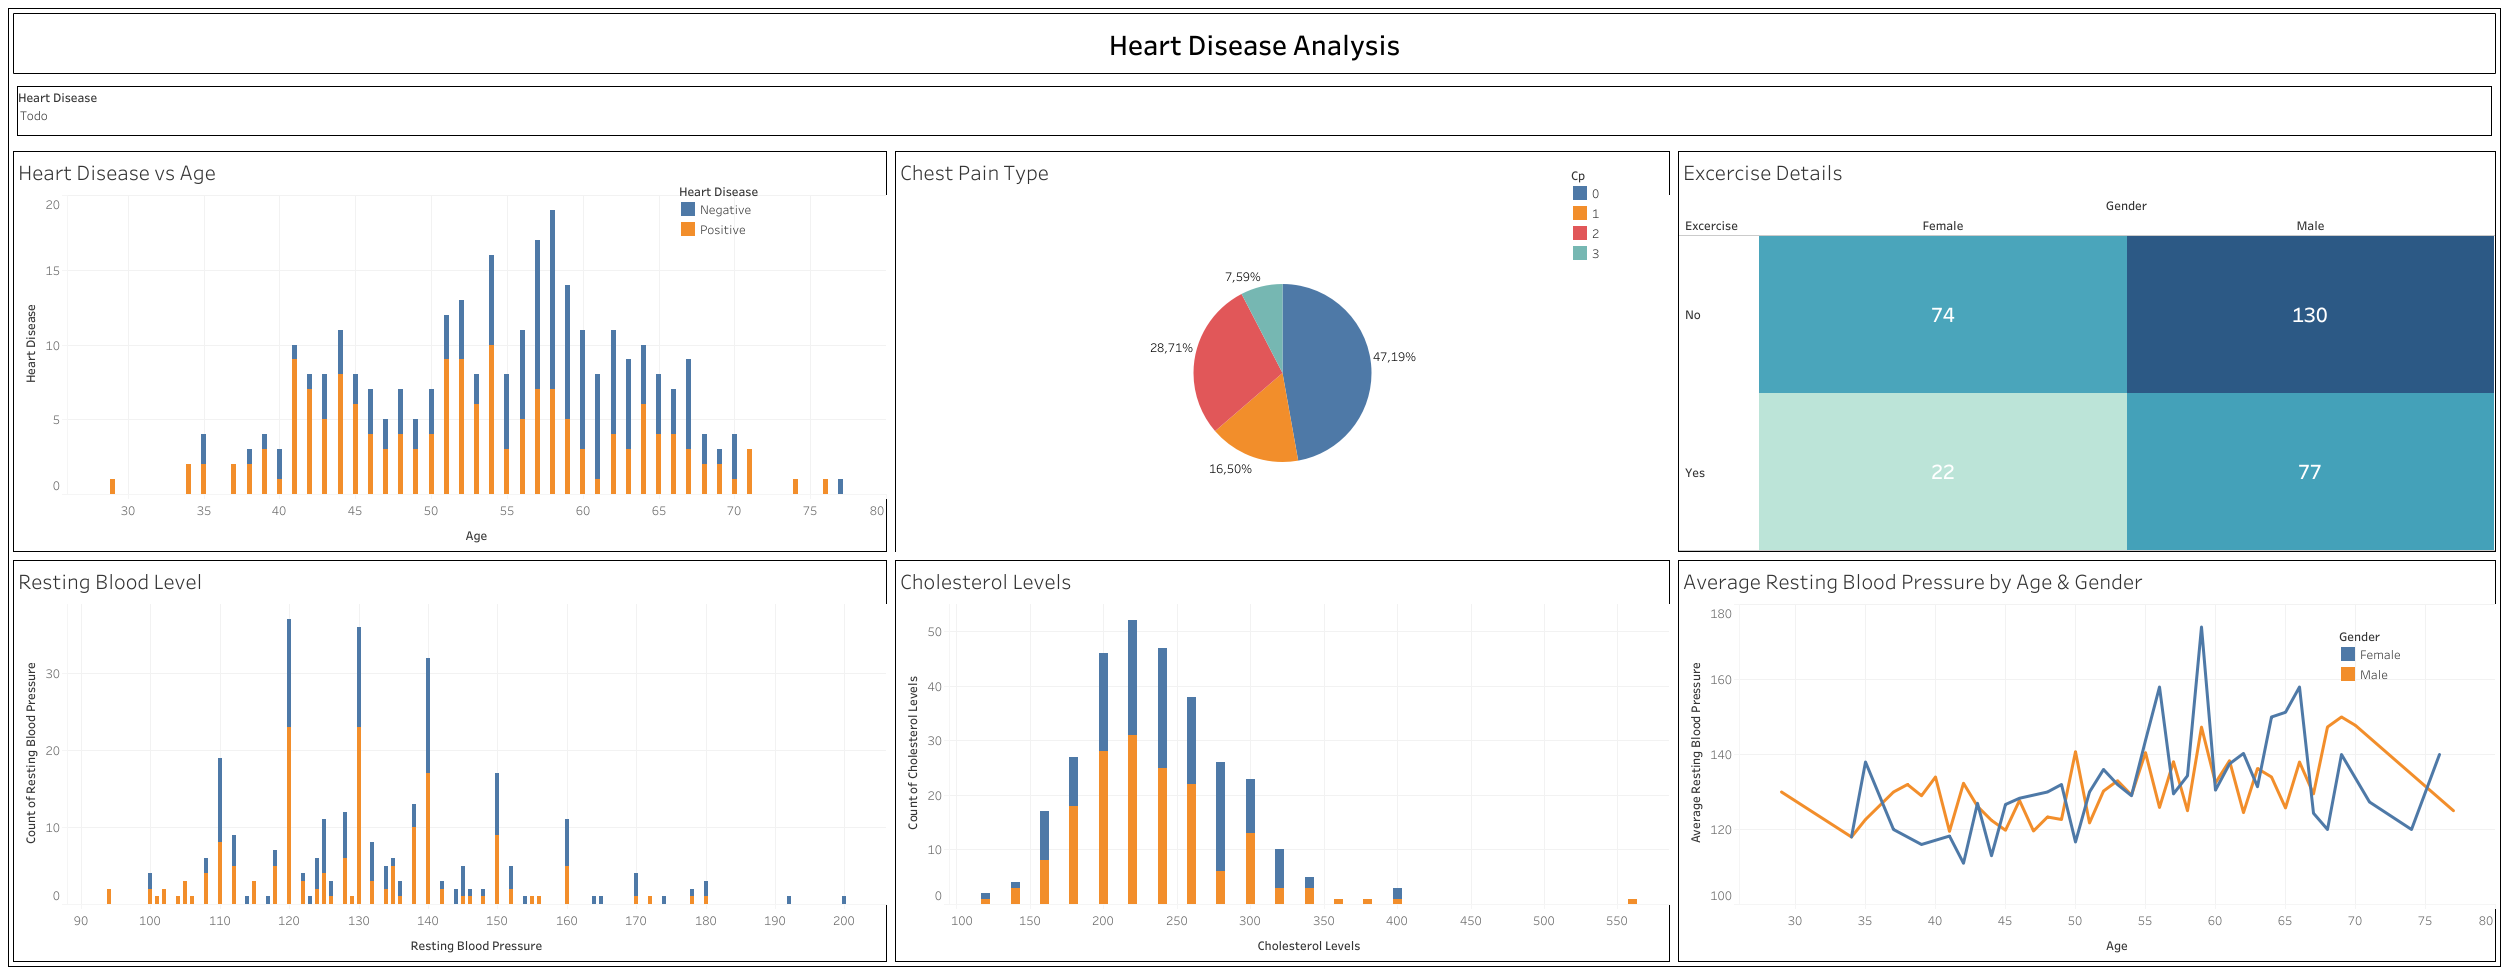

This screenshot's page, from the dashboard's own definition file:
{"tool":"tableau","page":{"name":"Dashboard 1","canvas":[1000,1000],"units":"permille","ordinal":0},"visuals":[{"type":"text","box":[8.4,16.8,983.2,69.7]},{"type":"filter","title":"Heart Disease vs Age","param":"[federated.03vfvdb0tzxaq81ez0smp19li1ul].[none:Calculation_487796154205741056:nk","box":[8.4,86.5,983.2,69.8]},{"type":"worksheet","title":"Heart Disease vs Age","mark":"Bar","rows":["target"],"cols":["age"],"box":[8.4,156.4,348.2,413.3]},{"type":"worksheet","title":"Chest Pain Type","mark":"Pie","box":[356.6,156.4,309,413.3]},{"type":"worksheet","title":"Excercise Details","mark":"Square","rows":["exang"],"cols":["sex"],"box":[665.6,156.4,325.9,413.3]},{"type":"legend","title":"Chest Pain Type","param":"[federated.03vfvdb0tzxaq81ez0smp19li1ul].[none:cp:ok]","box":[625.8,168.2,131,183.2]},{"type":"legend","title":"Heart Disease vs Age","param":"[federated.03vfvdb0tzxaq81ez0smp19li1ul].[none:Calculation_487796154205741056:nk","box":[270.4,185.1,102,110.3]},{"type":"worksheet","title":"Resting Blood Level","mark":"Bar","rows":["trestbps"],"cols":["trestbps"],"box":[8.4,569.7,348.2,413.5]},{"type":"worksheet","title":"Cholesterol Levels","mark":"Bar","rows":["chol"],"cols":["Chol (bin)"],"box":[356.6,569.7,309,413.5]},{"type":"worksheet","title":"Average Resting Blood Pressure by Age & Gender","mark":"Line","rows":["trestbps"],"cols":["age"],"box":[665.6,569.7,325.9,413.5]}]}

Visuals, with their boxes on the dashboard's canvas, which has no fixed pixel size, in thousandths of its width and height (x1, y1, x2, y2). These are canvas units, not pixel positions in the 2508x974 screenshot, which may show the page scaled, cropped or inside an application window:
text: crop(8, 17, 992, 86)
"Heart Disease vs Age" filter: crop(8, 86, 992, 156)
"Heart Disease vs Age" worksheet (Bar marks): crop(8, 156, 357, 570)
"Chest Pain Type" worksheet (Pie marks): crop(357, 156, 666, 570)
"Excercise Details" worksheet (Square marks): crop(666, 156, 992, 570)
"Chest Pain Type" legend: crop(626, 168, 757, 351)
"Heart Disease vs Age" legend: crop(270, 185, 372, 295)
"Resting Blood Level" worksheet (Bar marks): crop(8, 570, 357, 983)
"Cholesterol Levels" worksheet (Bar marks): crop(357, 570, 666, 983)
"Average Resting Blood Pressure by Age & Gender" worksheet (Line marks): crop(666, 570, 992, 983)
